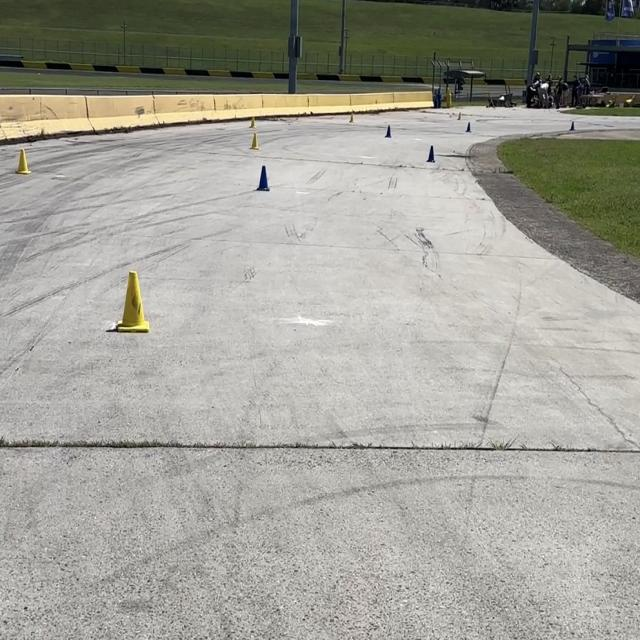blue_cone: (256, 163, 270, 194), (427, 142, 437, 167), (385, 126, 392, 140), (569, 120, 576, 132), (466, 120, 470, 134)
yellow_cone: (112, 268, 153, 338), (16, 147, 29, 177), (250, 132, 259, 152), (250, 114, 258, 130), (349, 112, 356, 125), (457, 110, 462, 122)
